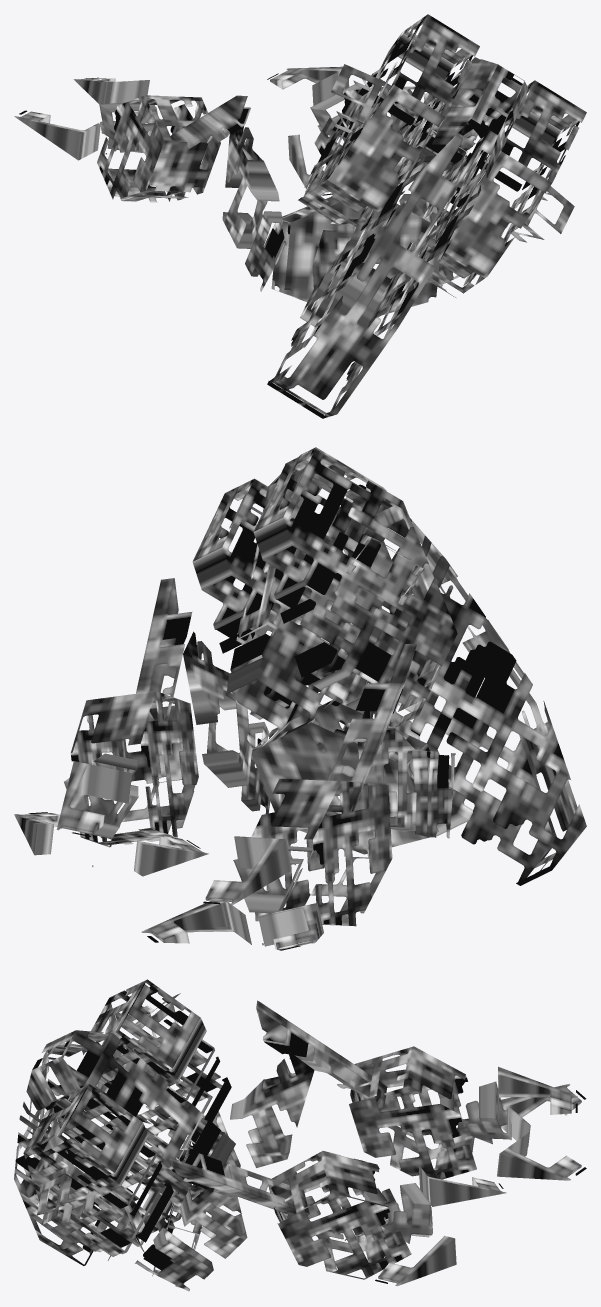
File: vulture_wreck_forward.glb
3 renders of one model, top to bottom at view 1: azimuth 30°, elevation 25°; view 2: azimuth 150°, elevation 25°; view 3: azimuth 270°, elevation 25°, orthographic. The views are drawn at different scales.
Parts seen in each view (by area): view 1: vu_rfoot01; view 2: vu_rfoot01; view 3: vu_rfoot01.
Part boxes in pixels (<box>): vu_rfoot01: <box>14,14,586,418</box>; vu_rfoot01: <box>14,447,586,950</box>; vu_rfoot01: <box>14,979,586,1291</box>.
Size of the model in its own units: 6.35 by 6.38 by 9.34.
1 material, 1 textured.
